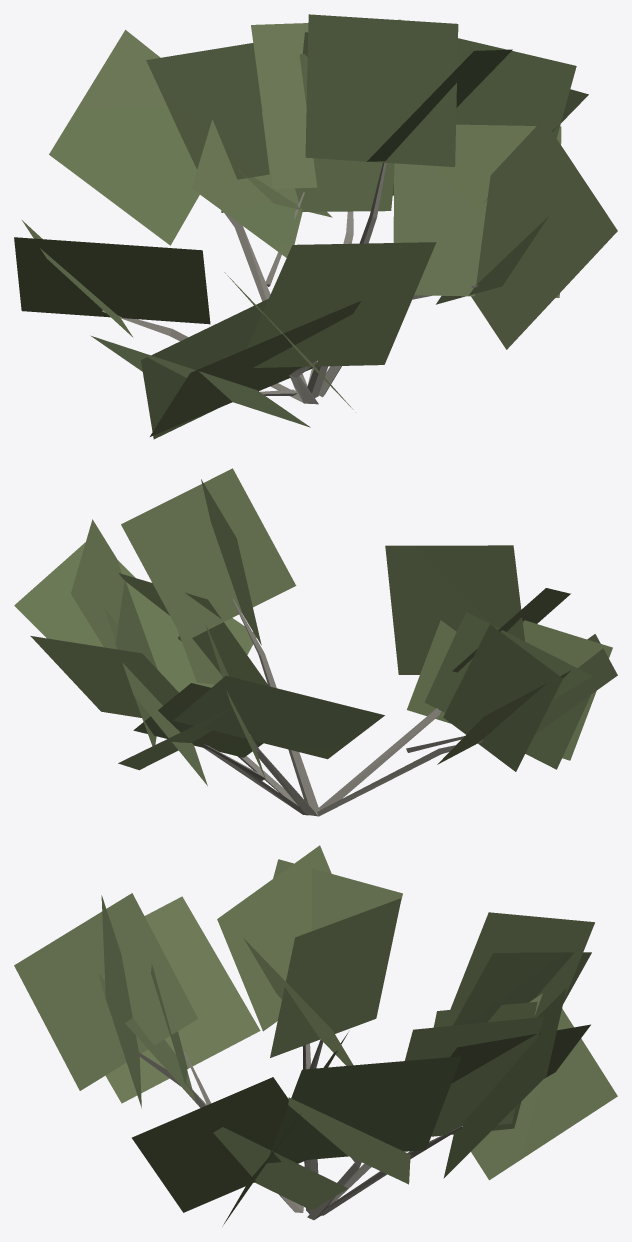
Rendered from dry-shrub-1_lod1.glb.
3 views of the same model, one above another, from view 1: azimuth 30°, elevation 25°; view 2: azimuth 150°, elevation 25°; view 3: azimuth 270°, elevation 25° (orthographic). The views are drawn at different scales.
Parts seen in each view (by area): view 1: dry-shrub-1_lod1; view 2: dry-shrub-1_lod1; view 3: dry-shrub-1_lod1.
Part boxes in pixels (<box>): dry-shrub-1_lod1: <box>14,14,617,439</box>; dry-shrub-1_lod1: <box>14,468,617,816</box>; dry-shrub-1_lod1: <box>14,845,617,1226</box>.
Bounding box in the file's own units: 1.87 × 1.05 × 1.68.
